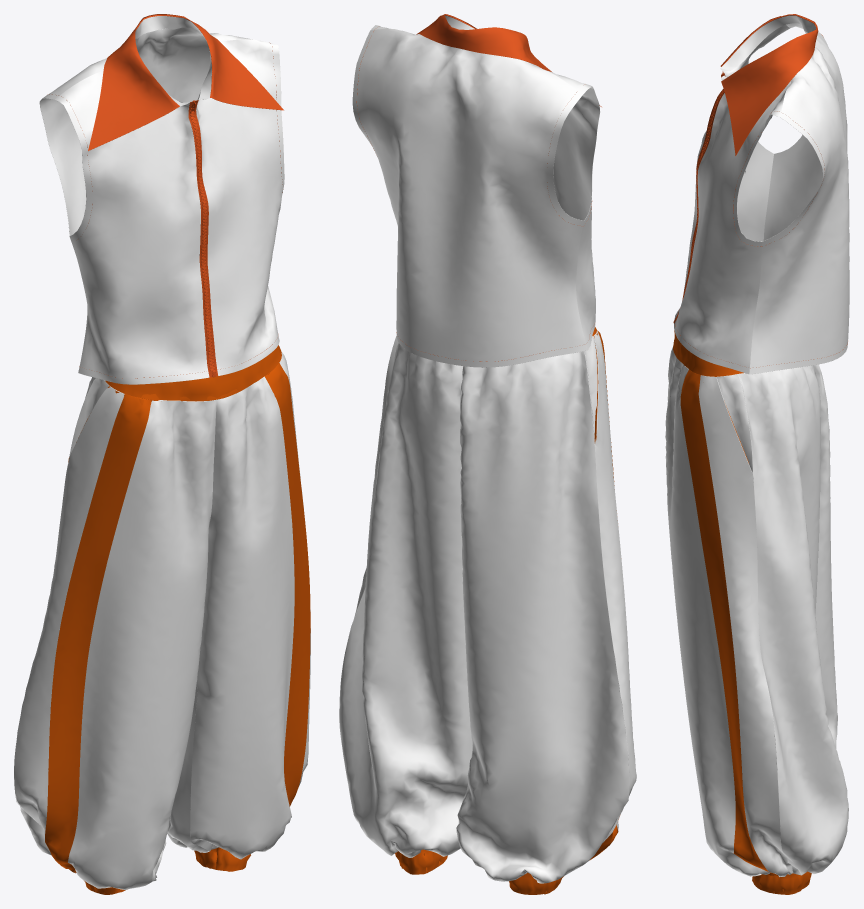
Rendered from look%20uomo-0ktNuNzUuPqwLHuD37lFeAal2cdIaw.glb.
3 renders of one model, left to right at view 1: azimuth 30°, elevation 25°; view 2: azimuth 150°, elevation 25°; view 3: azimuth 270°, elevation 25°, orthographic. The views are drawn at different scales.
Visible parts, largest first — view 1: Cloth, BindedTrim_251773, BindedTrim_251686; view 2: Cloth; view 3: Cloth.
Boxes of the visible parts, left/top/right/bottom form: Cloth: left=14, top=14, right=310, bottom=894; BindedTrim_251773: left=190, top=105, right=213, bottom=370; BindedTrim_251686: left=191, top=107, right=215, bottom=372; Cloth: left=339, top=14, right=636, bottom=894; Cloth: left=665, top=14, right=849, bottom=894.
Bounding box in the file's own units: 51.43 × 145 × 28.91.
Materials: 25 (24 with a texture image).
